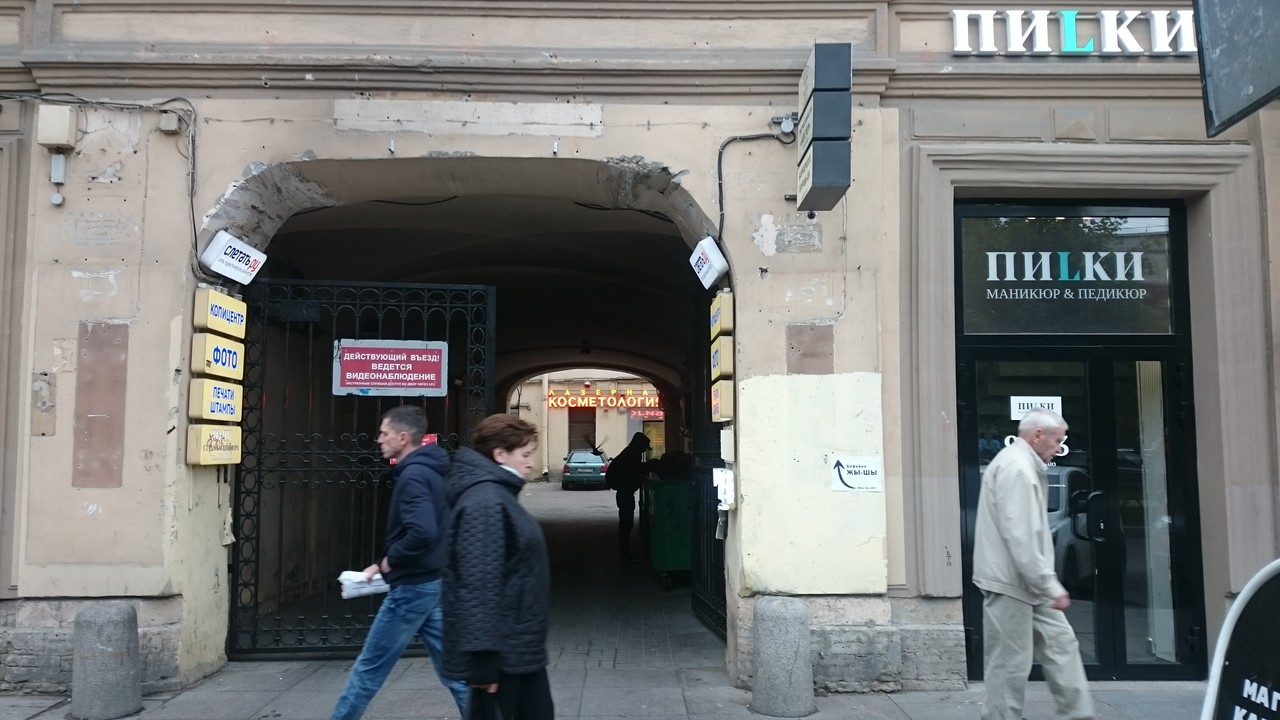arch: (173, 153, 734, 691)
cantilever: (776, 36, 854, 226)
door: (954, 350, 1119, 683)
signboard: (948, 7, 1199, 56), (544, 392, 661, 410)
win_ad: (982, 251, 1149, 303)
window: (955, 199, 1182, 345)
